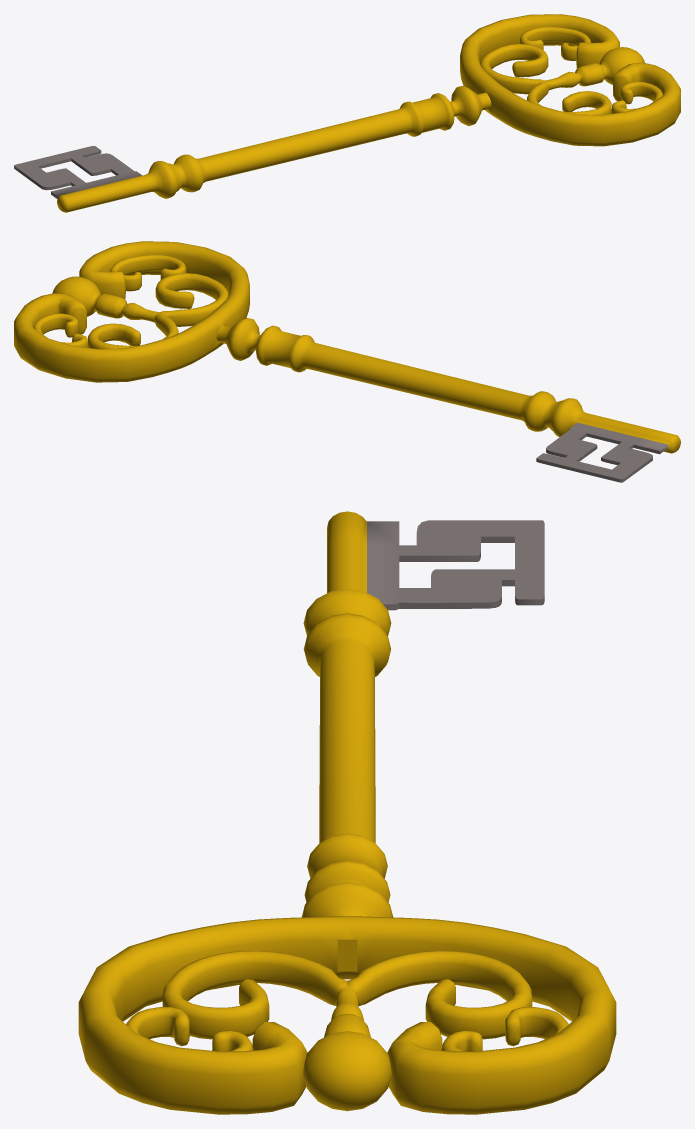
Rendered from MedievalKey3.fbx.
The picture shows the model from 3 angles, top to bottom: view 1: azimuth 30°, elevation 25°; view 2: azimuth 150°, elevation 25°; view 3: azimuth 270°, elevation 25°; orthographic projection. The views are drawn at different scales.
Parts seen in each view (by area): view 1: MedievalGoldenKey; view 2: MedievalGoldenKey; view 3: MedievalGoldenKey.
Boxes of the visible parts, left/top/right/bottom form: MedievalGoldenKey: left=14, top=14, right=680, bottom=212; MedievalGoldenKey: left=14, top=241, right=680, bottom=482; MedievalGoldenKey: left=78, top=511, right=616, bottom=1114.
Size of the model in its own units: 200 by 12 by 80.
